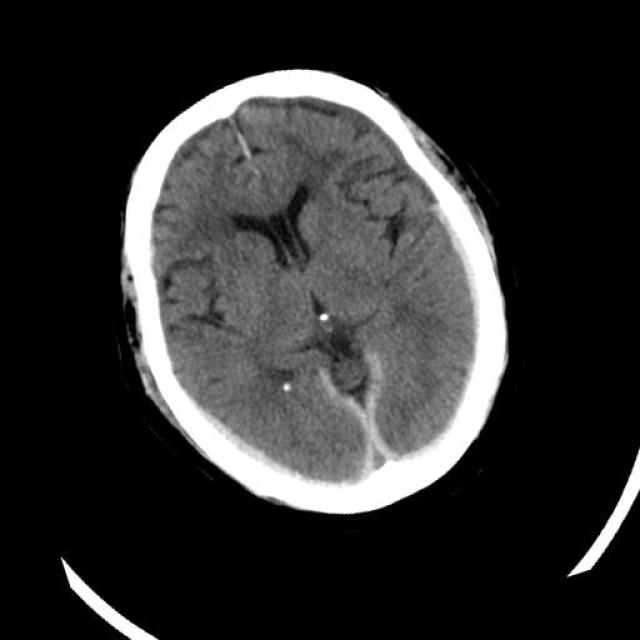Subdural: (175, 350, 335, 558), (300, 333, 461, 509)
